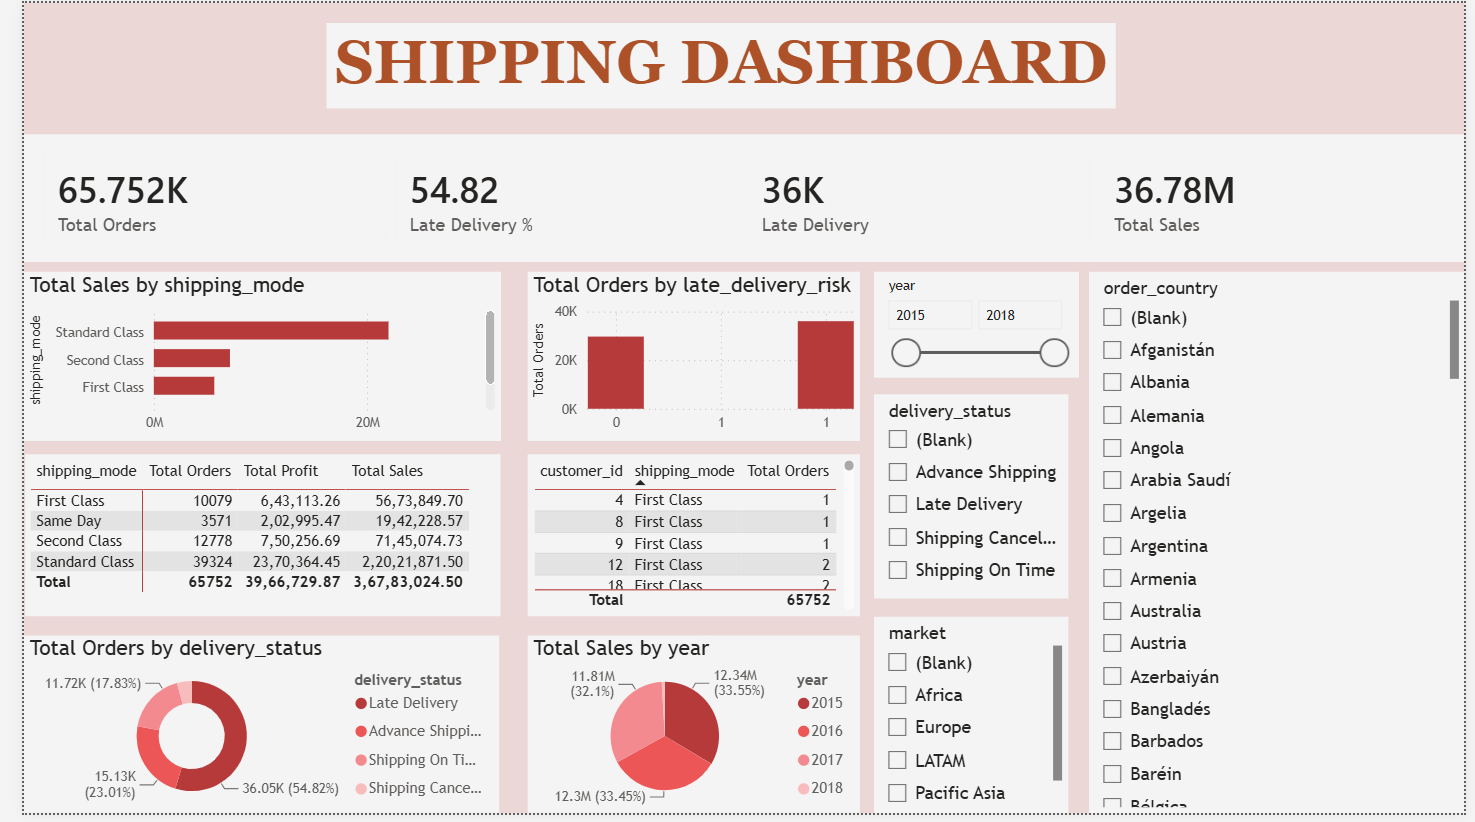

This screenshot's page, from the dashboard's own definition file:
{"tool":"powerbi","page":{"name":"Shipping Dashboard","canvas":[1280,720],"ordinal":3},"visuals":[{"type":"cardVisual","fields":{"Data":["logistics fact_orders.Total Orders","logistics fact_orders.Late Delivery %","logistics fact_orders.Late Delivery","logistics fact_orders.Total Sales"]},"box":[0,116.7,1280,113.3],"z":0},{"type":"clusteredBarChart","fields":{"Category":["logistics dim_shipping.shipping_mode"],"Y":["logistics fact_orders.Total Sales"]},"box":[0,238.8,423.8,150],"z":1000},{"type":"donutChart","fields":{"Category":["logistics dim_shipping.delivery_status"],"Y":["logistics fact_orders.Total Orders"]},"box":[0,562.5,422.5,157.5],"z":2000},{"type":"clusteredColumnChart","fields":{"Category":["logistics dim_shipping.late_delivery_risk"],"Y":["logistics fact_orders.Total Orders"]},"box":[447.5,238.8,295,150],"z":3000},{"type":"pivotTable","fields":{"Rows":["logistics dim_shipping.shipping_mode"],"Values":["logistics fact_orders.Total Orders","logistics fact_orders.Total Profit","logistics fact_orders.Total Sales"]},"box":[1.2,401.2,422.5,143.8],"z":4000},{"type":"slicer","fields":{"Values":["logistics dim_date.year"]},"box":[755,238.8,181.2,93.8],"z":5000},{"type":"slicer","fields":{"Values":["logistics dim_locations.order_country"]},"box":[946.2,238.8,333.8,481.2],"z":6000},{"type":"slicer","fields":{"Values":["logistics dim_shipping.delivery_status"]},"box":[755,347.5,172.5,181.2],"z":7000},{"type":"slicer","fields":{"Values":["logistics dim_locations.market"]},"box":[755,545,172.5,175],"z":8000},{"type":"pieChart","fields":{"Y":["logistics fact_orders.Total Sales"],"Category":["logistics dim_date.year"]},"box":[447.5,562.5,295,157.5],"z":9000},{"type":"tableEx","fields":{"Values":["logistics dim_customers.customer_id","logistics dim_shipping.shipping_mode","logistics fact_orders.Total Orders"]},"box":[447.5,401.2,295,143.8],"z":10000},{"type":"textbox","box":[268.8,17.5,701.2,76.2],"z":11000}]}

Visuals, with their boxes in screenshot pixels (x1, y1, x2, y2), scaled from the page's 1280x720 canvas onto the 1475x822 screenshot:
cardVisual - logistics fact_orders.Total Orders x logistics fact_orders.Late Delivery %: <box>0,133,1474,263</box>
clusteredBarChart - logistics dim_shipping.shipping_mode x logistics fact_orders.Total Sales: <box>0,273,488,444</box>
donutChart - logistics dim_shipping.delivery_status x logistics fact_orders.Total Orders: <box>0,642,487,821</box>
clusteredColumnChart - logistics dim_shipping.late_delivery_risk x logistics fact_orders.Total Orders: <box>516,273,856,444</box>
pivotTable - logistics dim_shipping.shipping_mode x logistics fact_orders.Total Orders: <box>1,458,488,622</box>
slicer - logistics dim_date.year: <box>870,273,1079,380</box>
slicer - logistics dim_locations.order_country: <box>1090,273,1474,821</box>
slicer - logistics dim_shipping.delivery_status: <box>870,397,1069,604</box>
slicer - logistics dim_locations.market: <box>870,622,1069,821</box>
pieChart - logistics fact_orders.Total Sales x logistics dim_date.year: <box>516,642,856,821</box>
tableEx - logistics dim_customers.customer_id x logistics dim_shipping.shipping_mode: <box>516,458,856,622</box>
textbox: <box>310,20,1118,107</box>
